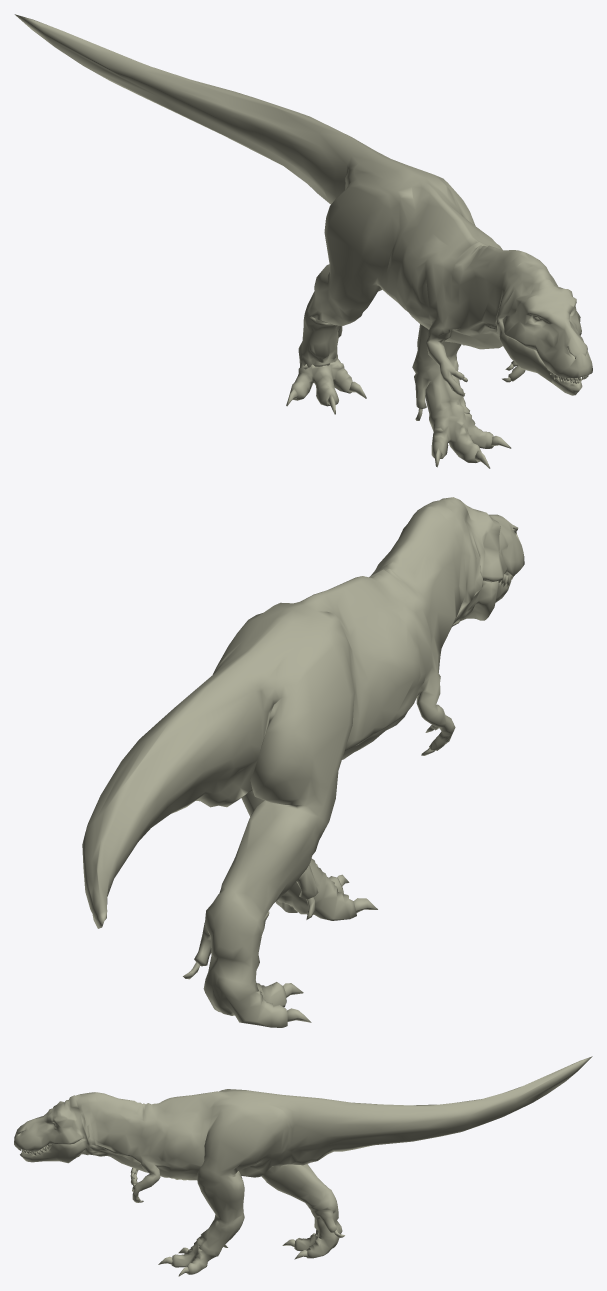
File: trex.dae
3 renders of one model, top to bottom at view 1: azimuth 30°, elevation 25°; view 2: azimuth 150°, elevation 25°; view 3: azimuth 270°, elevation 25°, orthographic. The views are drawn at different scales.
Visible parts, largest first — view 1: claws1; view 2: claws1; view 3: claws1.
Boxes of the visible parts, left/top/right/bottom form: claws1: left=14, top=14, right=592, bottom=468; claws1: left=82, top=497, right=524, bottom=1027; claws1: left=14, top=1056, right=592, bottom=1276.
Size of the model in its own units: 0.7708 by 3.24 by 1.05.
